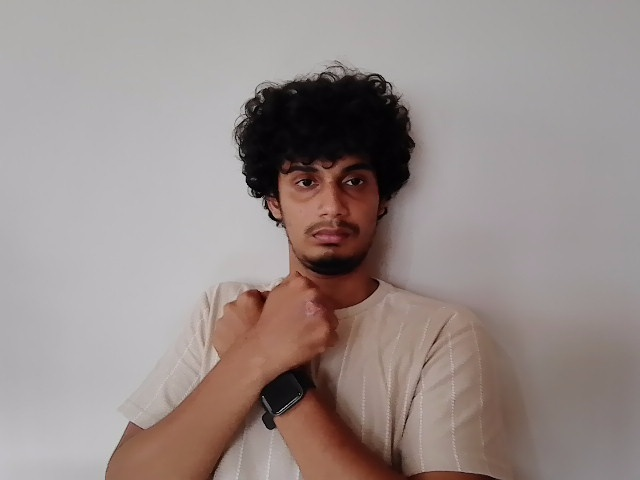love: (209, 270, 343, 393)
